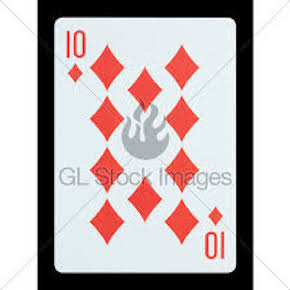TenOfDiamonds: (50, 16, 240, 273)
